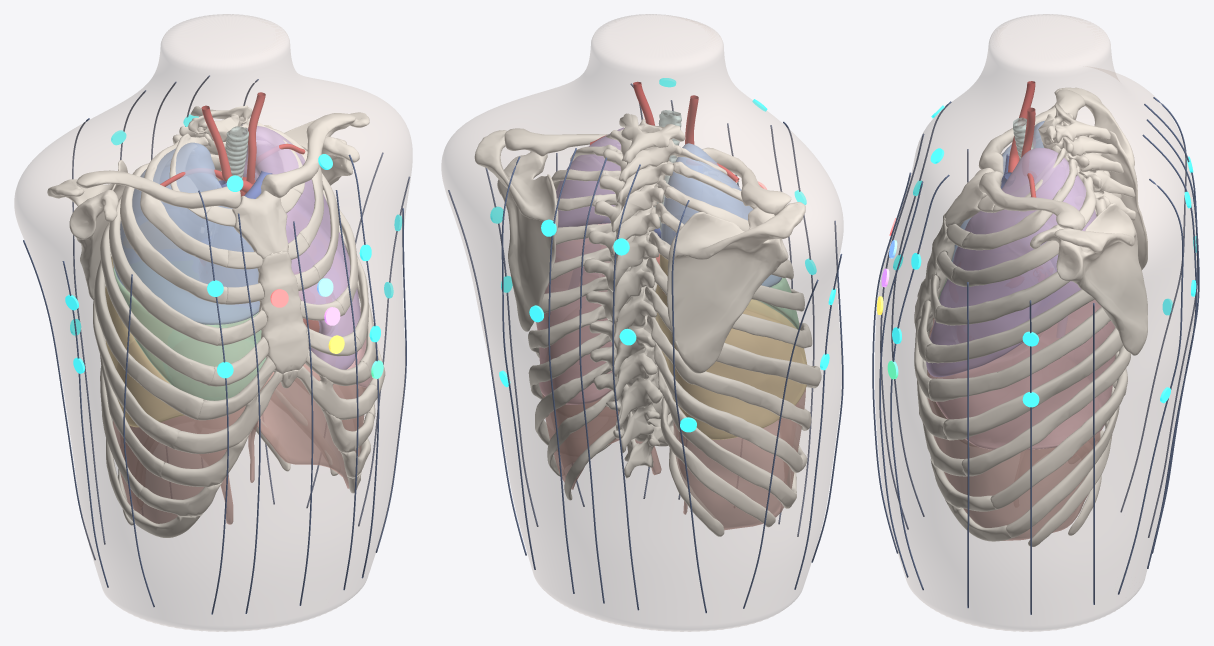
File: torso_auscultacion_draco.glb
3 renders of one model, left to right at view 1: azimuth 30°, elevation 25°; view 2: azimuth 150°, elevation 25°; view 3: azimuth 270°, elevation 25°, orthographic. The views are drawn at different scales.
Visible parts, largest first — view 1: Piel, Diafragma, Pulmon_D_Superior, Esternon, Pulmon_I_Superior, Pulmon_D_Medio, Costillas_7_D, Costillas_6_D, Costillas_5_D, Costillas_4_D, Escapula_D, Costillas_3_D (+32 smaller); view 2: Piel, Columna, Escapula_D, Diafragma, Escapula_I, Pulmon_D_Inferior, Pulmon_I_Inferior, Costillas_9_D, Pulmon_D_Superior, Costillas_8_D, Costillas_10_D, Pulmon_I_Superior (+32 smaller); view 3: Piel, Pulmon_I_Superior, Escapula_I, Pulmon_I_Inferior, Diafragma, Columna, Costillas_7_I, Costillas_6_I, Costillas_8_I, Costillas_9_I, Costillas_5_I, Costillas_10_I (+24 smaller).
Part boxes in pixels (x1,y1,x2,y2): Piel: [14, 14, 412, 631]; Diafragma: [113, 364, 366, 524]; Pulmon_D_Superior: [113, 142, 259, 324]; Esternon: [232, 190, 308, 388]; Pulmon_I_Superior: [243, 126, 360, 369]; Pulmon_D_Medio: [113, 267, 266, 400]; Costillas_7_D: [93, 284, 282, 453]; Costillas_6_D: [94, 252, 275, 420]; Costillas_5_D: [100, 222, 268, 386]; Costillas_4_D: [109, 195, 266, 345]; Escapula_D: [47, 160, 127, 299]; Costillas_3_D: [120, 163, 264, 304]; Piel: [441, 14, 843, 631]; Columna: [584, 113, 685, 478]; Escapula_D: [667, 202, 805, 373]; Diafragma: [542, 389, 805, 529]; Escapula_I: [474, 130, 558, 331]; Pulmon_D_Inferior: [655, 254, 807, 439]; Pulmon_I_Inferior: [536, 223, 612, 404]; Costillas_9_D: [654, 342, 806, 472]; Pulmon_D_Superior: [661, 143, 781, 287]; Costillas_8_D: [647, 316, 811, 430]; Costillas_10_D: [657, 367, 796, 508]; Pulmon_I_Superior: [556, 127, 624, 227]; Piel: [875, 14, 1196, 631]; Pulmon_I_Superior: [926, 148, 1096, 377]; Escapula_I: [1030, 203, 1147, 355]; Pulmon_I_Inferior: [928, 299, 1115, 449]; Diafragma: [927, 318, 1100, 540]; Columna: [1038, 103, 1135, 438]; Costillas_7_I: [917, 327, 1123, 440]; Costillas_6_I: [914, 306, 1110, 401]; Costillas_8_I: [919, 346, 1130, 476]; Costillas_9_I: [930, 351, 1127, 511]; Costillas_5_I: [917, 289, 1094, 363]; Costillas_10_I: [945, 386, 1119, 541].
Size of the model in its own units: 0.4176 by 0.5799 by 0.3158.
